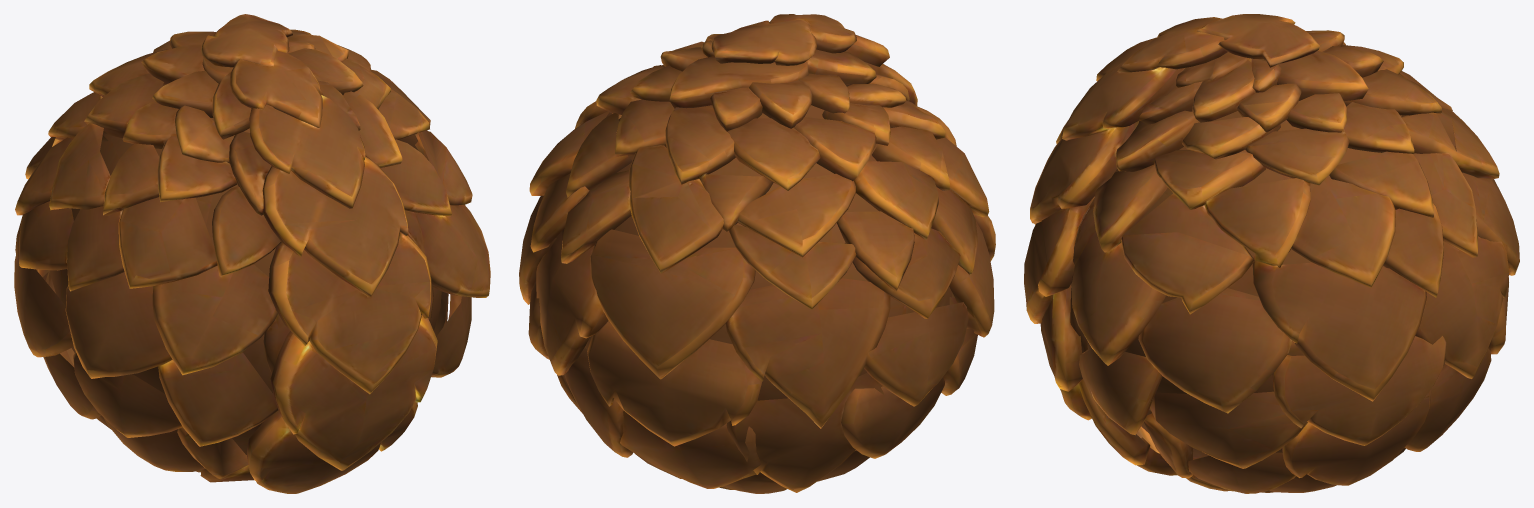
The model's file is SM_HeroPart_PangolinBall.glb.
The picture shows the model from 3 angles, left to right: view 1: azimuth 30°, elevation 25°; view 2: azimuth 150°, elevation 25°; view 3: azimuth 270°, elevation 25°; orthographic projection. The views are drawn at different scales.
Visible parts, largest first — view 1: SM_HeroPart_PangolinBall_LOD0; view 2: SM_HeroPart_PangolinBall_LOD0; view 3: SM_HeroPart_PangolinBall_LOD0.
Boxes of the visible parts, bbox=[...] form: SM_HeroPart_PangolinBall_LOD0: bbox=[14, 14, 490, 493]; SM_HeroPart_PangolinBall_LOD0: bbox=[519, 14, 995, 493]; SM_HeroPart_PangolinBall_LOD0: bbox=[1024, 14, 1519, 493].
Size of what is drawn, in the model's own units: 1.16 by 1.22 by 1.21.
Materials: 1 (1 with a texture image).
